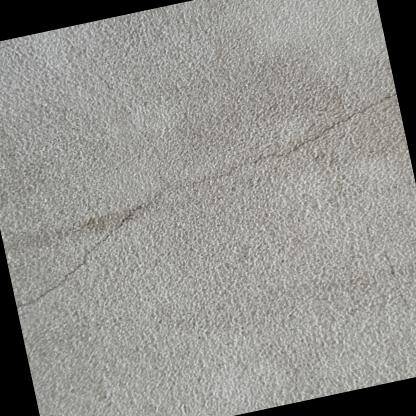crack: (23, 92, 392, 307)
